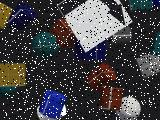Right: (57, 0, 133, 53)
